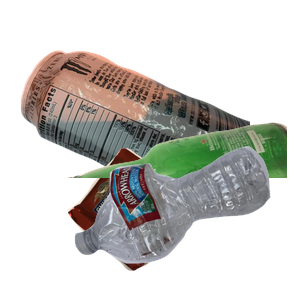glass: (60, 120, 300, 300)
metal: (18, 48, 258, 228)
plastic: (72, 144, 300, 300)
trash: (65, 145, 242, 300)
